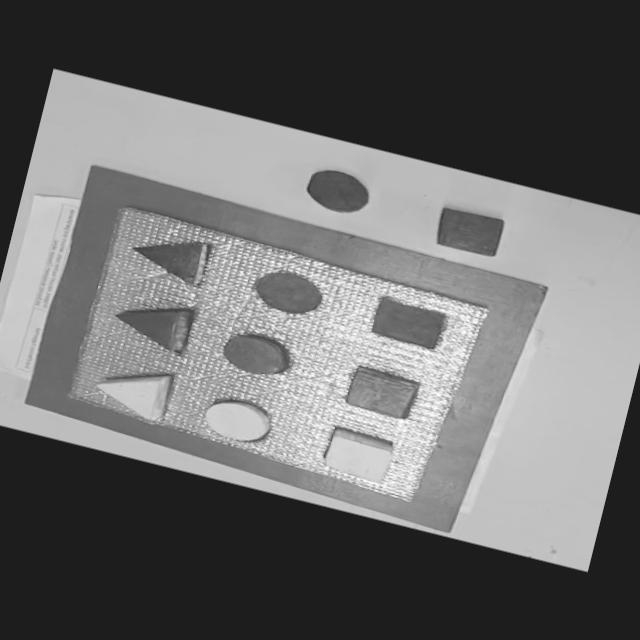bcircle: (300, 164, 374, 219)
bcube: (430, 204, 507, 261)
btriangle: (124, 225, 212, 288)
mtcircle: (247, 263, 328, 321)
mtcube: (366, 294, 449, 353)
rcircle: (218, 327, 292, 380)
rcube: (342, 364, 422, 422)
rtriangle: (107, 292, 195, 355)
wb: (59, 199, 498, 505)
ycircle: (198, 392, 276, 448)
ycube: (318, 424, 397, 484)
ytriangle: (88, 356, 176, 423)
